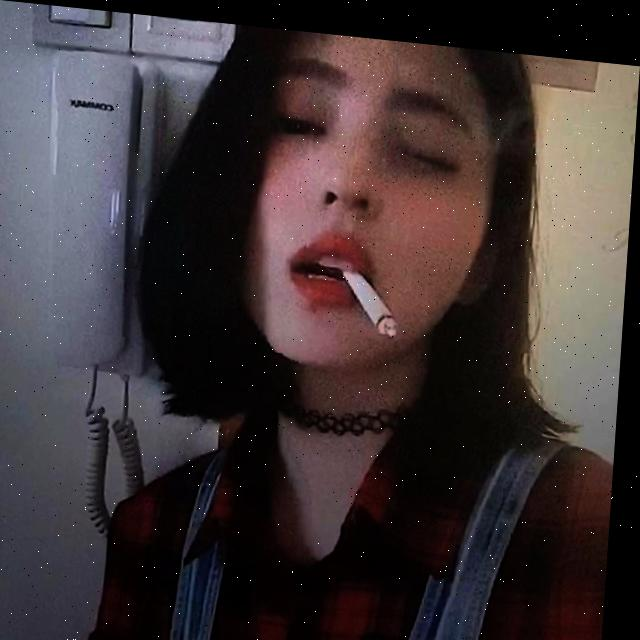cigarette: (344, 258, 405, 329)
